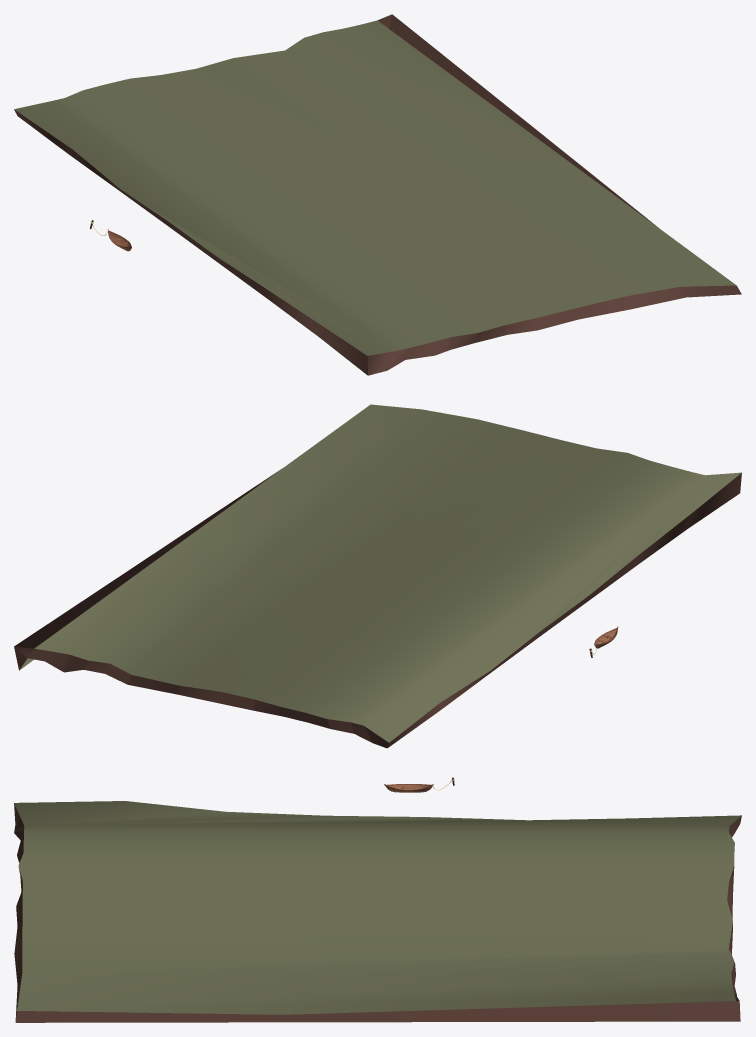
File: terreno1.obj
The picture shows the model from 3 angles, top to bottom: view 1: azimuth 30°, elevation 25°; view 2: azimuth 150°, elevation 25°; view 3: azimuth 270°, elevation 25°; orthographic projection. The views are drawn at different scales.
Visible parts, largest first — view 1: Scene; view 2: Scene; view 3: Scene.
Boxes of the visible parts, <box> form: Scene: <box>14,14,741,375</box>; Scene: <box>14,404,741,748</box>; Scene: <box>14,777,741,1022</box>.
Bounding box in the file's own units: 1944 × 131 × 2699.
Materials: 1 (1 with a texture image).
